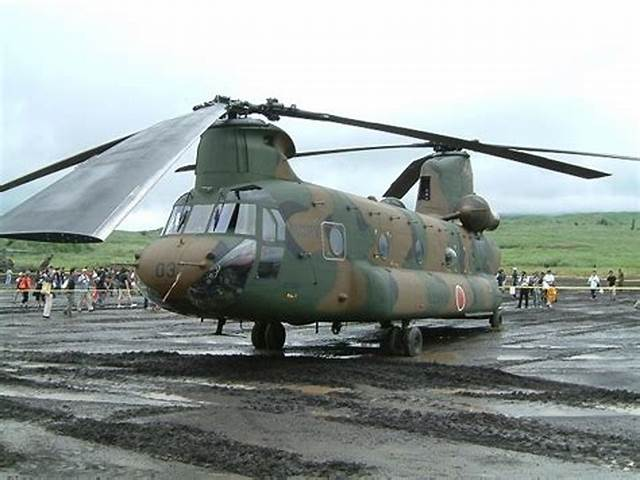Aeronef_militaire: (2, 90, 640, 363)
